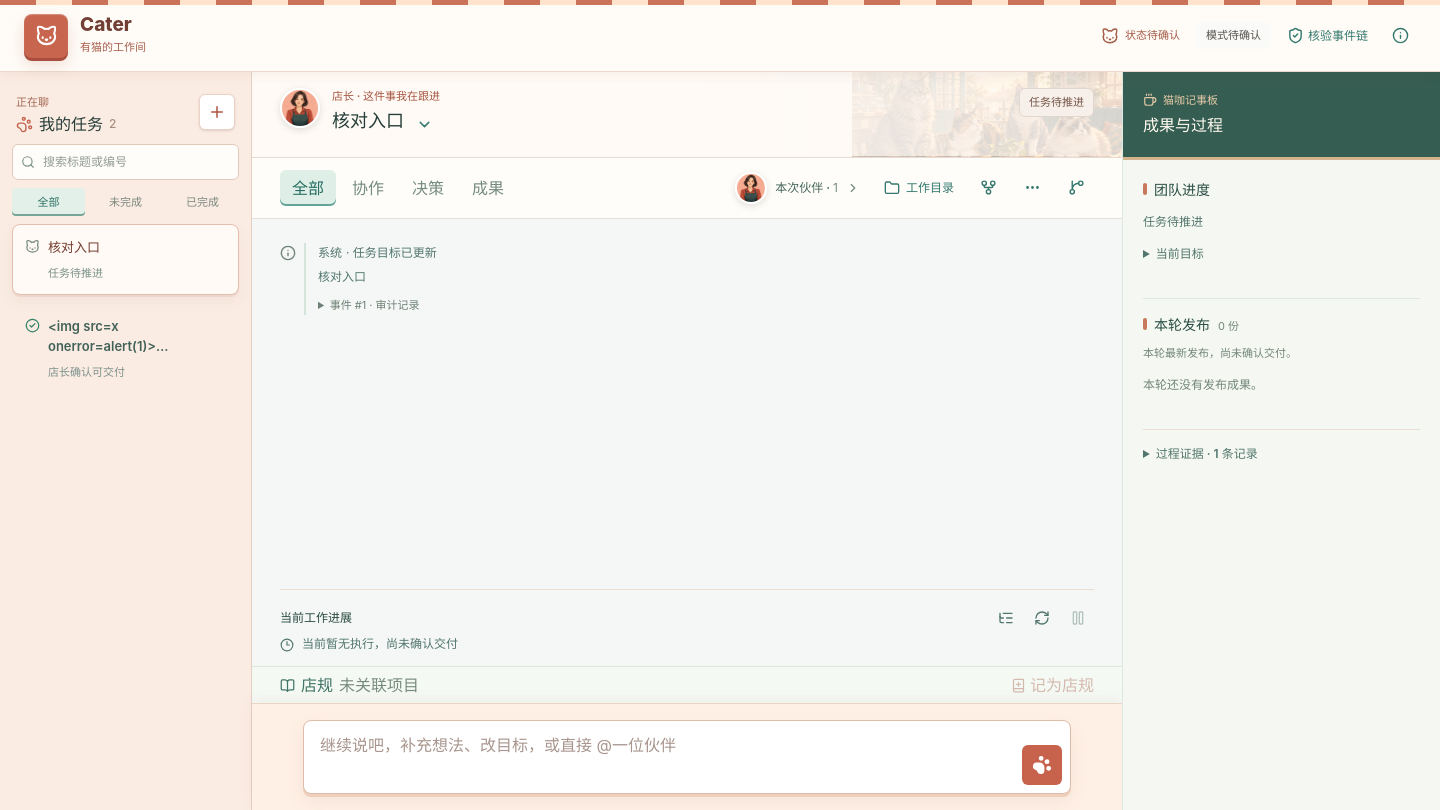
切任务收起全文；短名字保留，全文以纯文本显示 HTML/Markdown 和原始换行
The image size is (1440, 810).
Check: the heading "核对入口" is shown, box [332,108,404,133]
Check: the text "目标节选" is not shown
Click the button named "查看完整目标": (424, 124) [408,108,440,140]
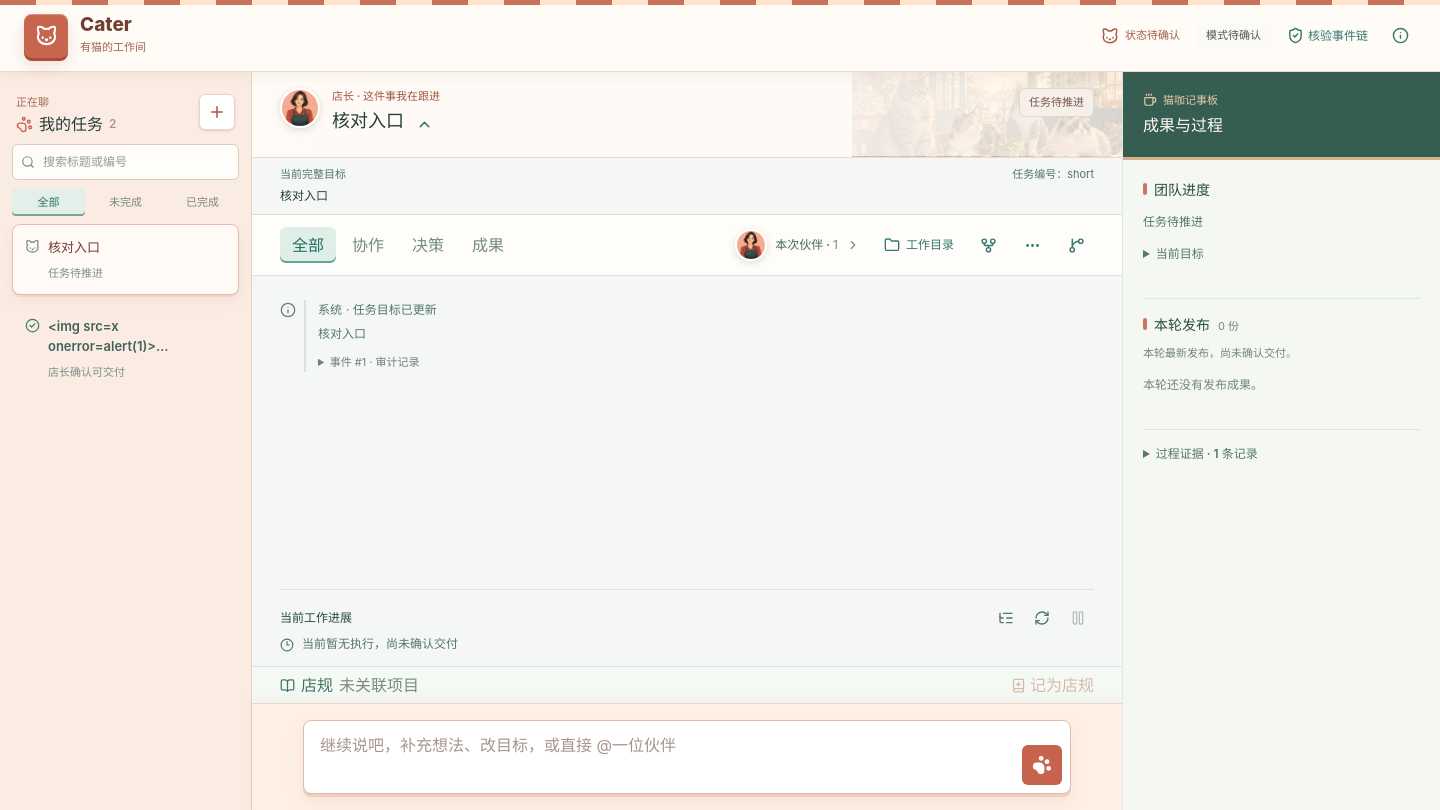
Check: the text "核对入口" below "我的任务" is shown, box [48,239,100,255]
Click the button named "目标节选": (126, 348) [12,302,239,393]
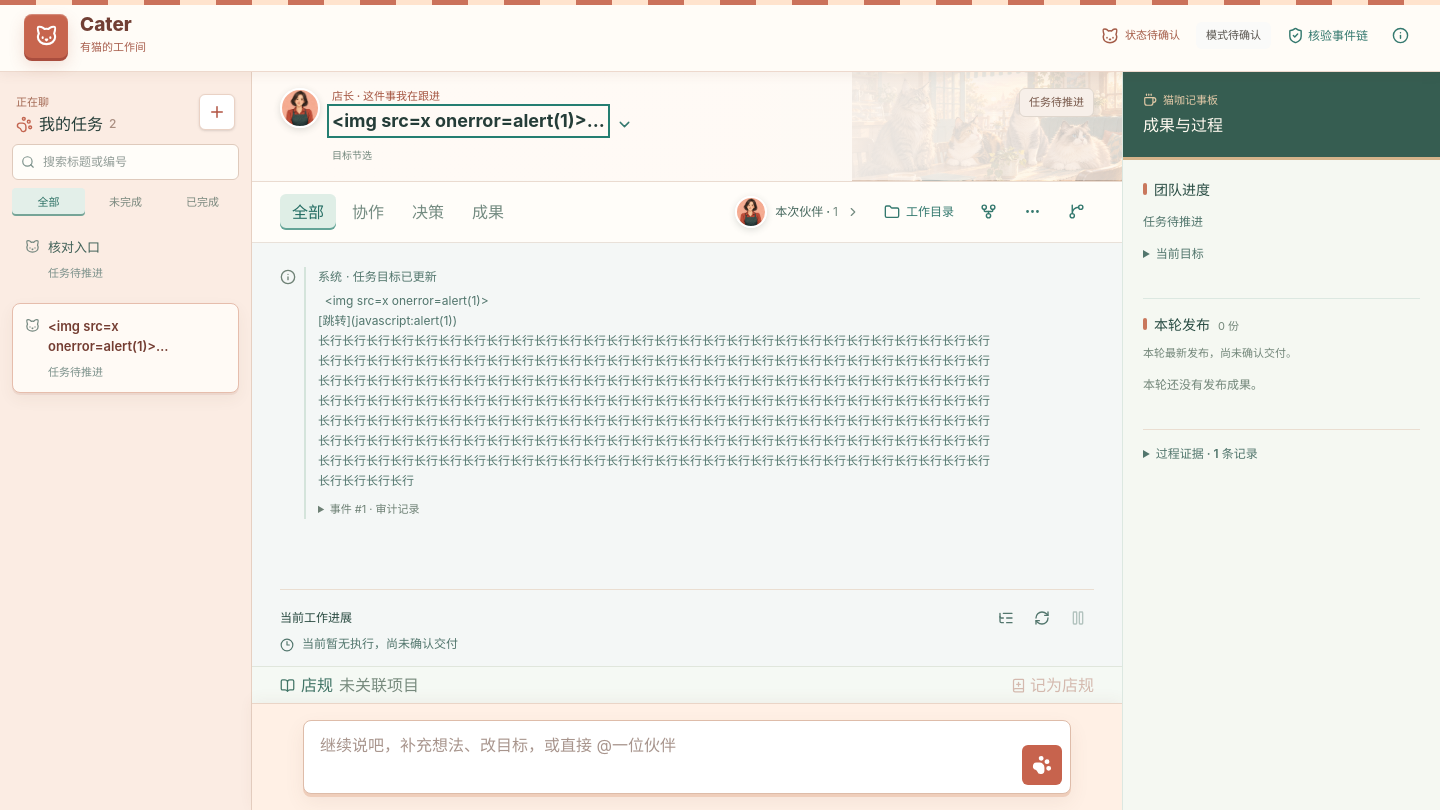
Check: the heading "当前完整目标" is gone
Click the button named "查看完整目标": (625, 124) [609,108,641,140]
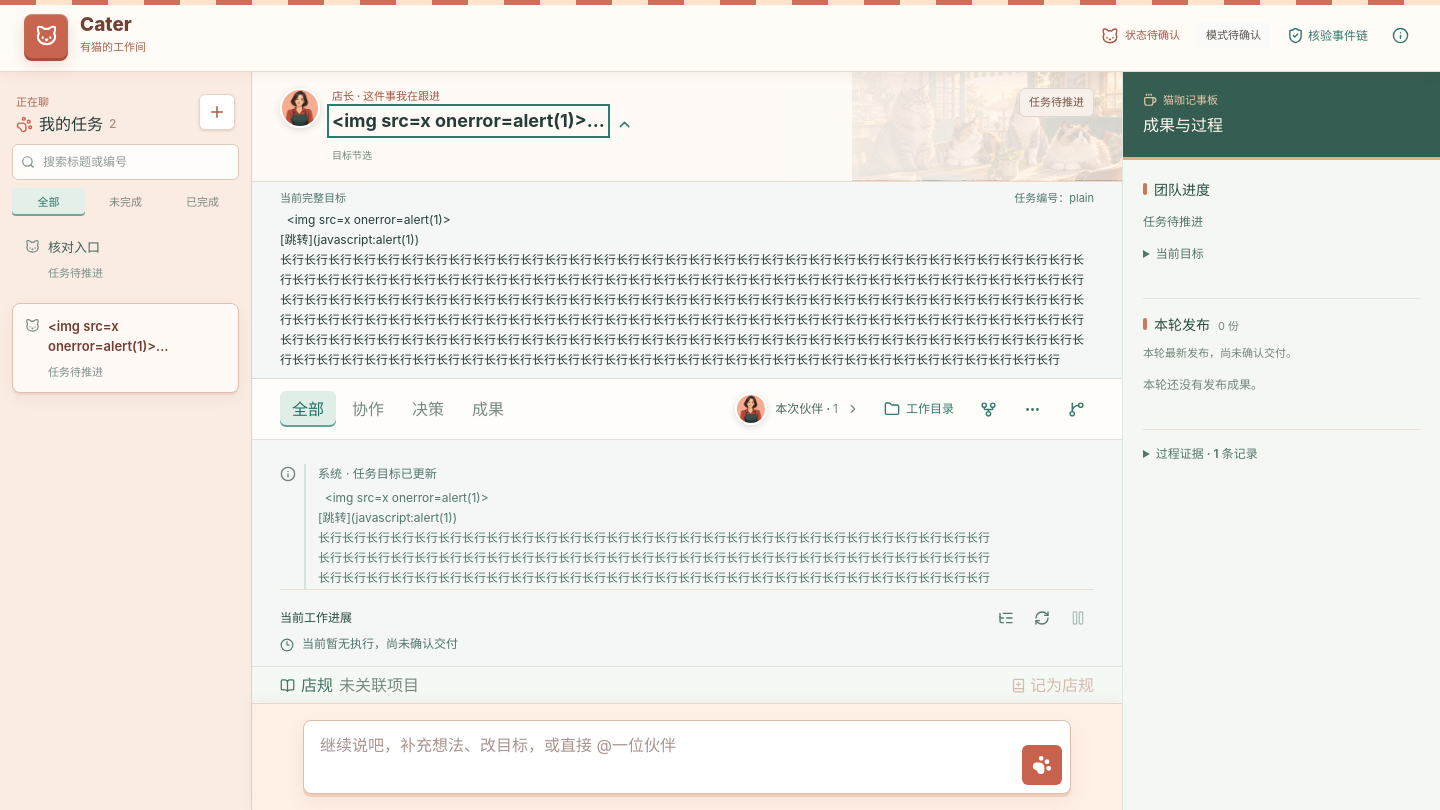
Click the button "核对入口 任务待推进": (126, 259) [12,224,239,294]
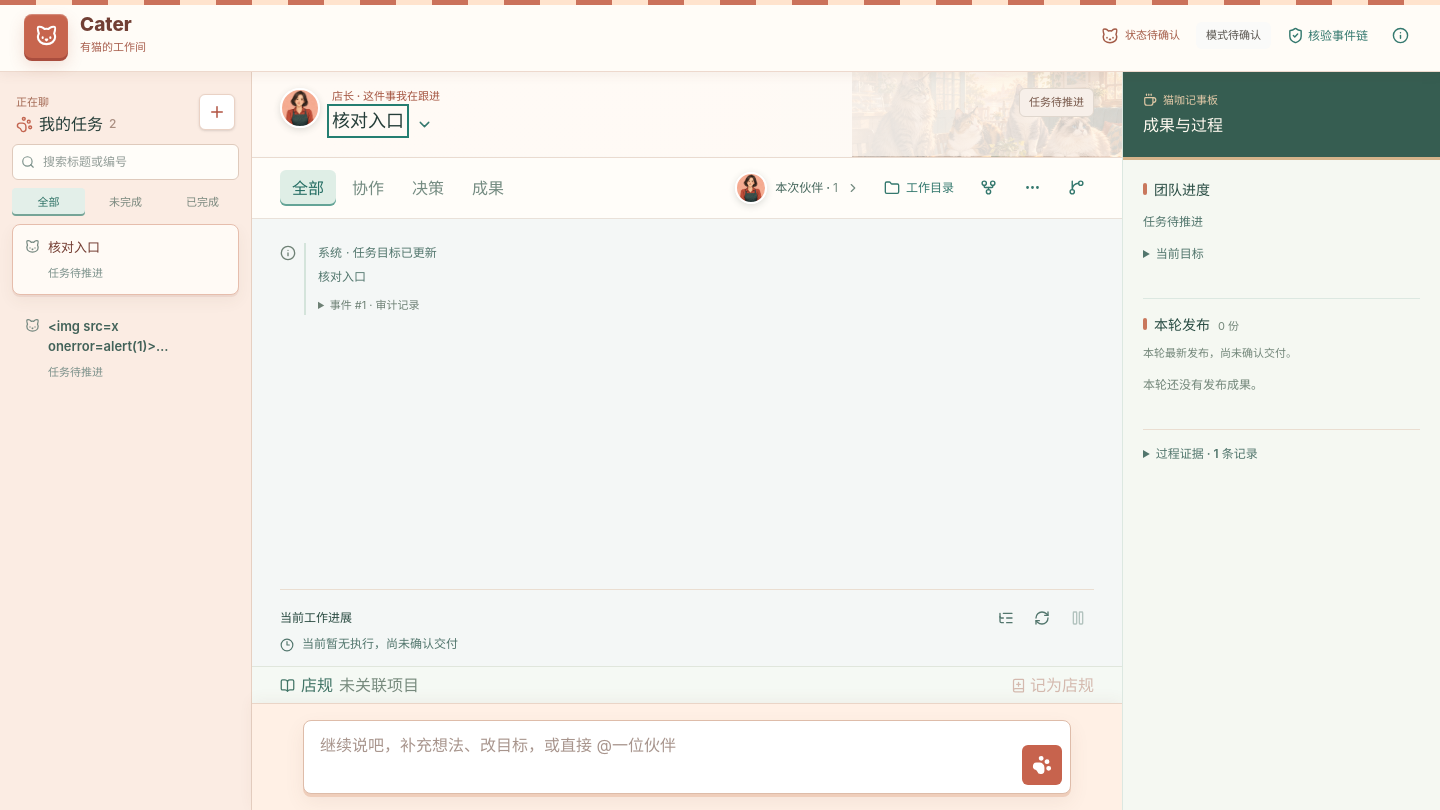
Check: the heading "当前完整目标" is gone
